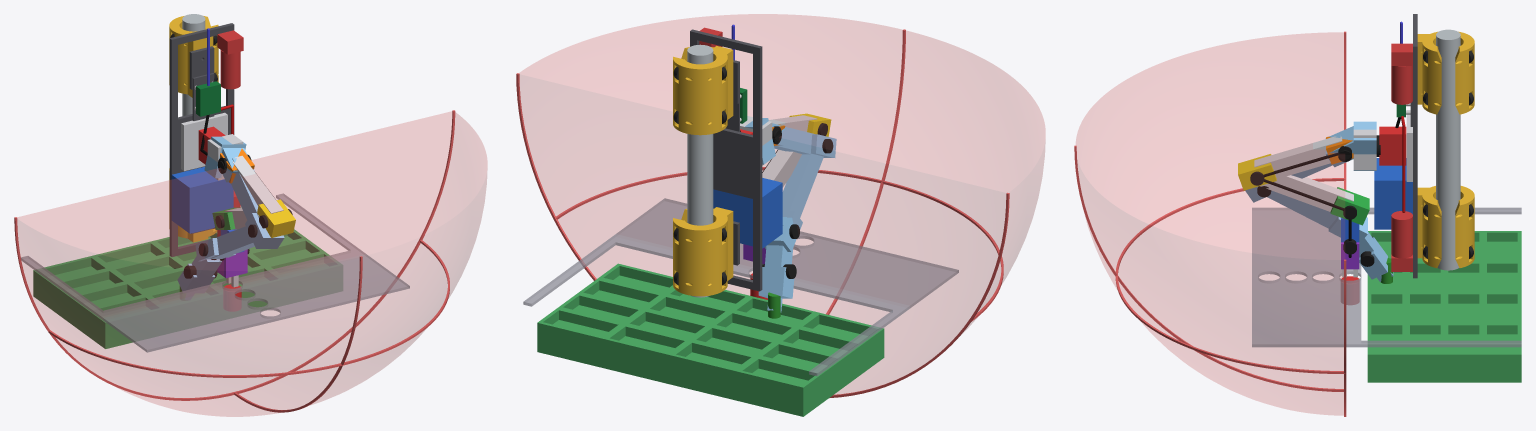
Rendered from cart-arm-v1.glb.
The picture shows the model from 3 angles, left to right: view 1: azimuth 30°, elevation 25°; view 2: azimuth 150°, elevation 25°; view 3: azimuth 270°, elevation 25°; orthographic projection. The views are drawn at different scales.
Visible parts, largest first — view 1: reach_envelope, seedling_tray, store_lid_patch, base_plate, battery, reach_ring_across, reach_ring_on_lid, hand_A_sleeve, drive_motors, arm_pick_D1_base_plate, arm_pick_D1_upper_arm, reach_ring_towards_store (+10 smaller); view 2: reach_envelope, seedling_tray, store_lid_patch, base_plate, hand_B_sleeve, hand_A_sleeve, track_pipe, battery, reach_ring_across, reach_ring_on_lid, ghost_arm_cell_A2_forearm, reach_ring_towards_store (+5 smaller); view 3: reach_envelope, seedling_tray, store_lid_patch, track_pipe, hand_A_sleeve, hand_B_sleeve, drive_motors, battery, reach_ring_on_lid, arm_pick_D1_upper_arm, arm_pick_D1_forearm, reach_ring_towards_store (+12 smaller).
Part boxes in pixels (x1,y1,x2,y2): reach_envelope: (17, 111, 487, 416); seedling_tray: (33, 229, 342, 348); store_lid_patch: (21, 193, 409, 352); base_plate: (169, 23, 234, 256); battery: (171, 166, 233, 233); reach_ring_across: (14, 110, 455, 400); reach_ring_on_lid: (48, 240, 449, 377); hand_A_sleeve: (169, 16, 218, 97); drive_motors: (217, 30, 243, 236); arm_pick_D1_base_plate: (181, 112, 227, 171); arm_pick_D1_upper_arm: (232, 155, 283, 213); reach_ring_towards_store: (234, 256, 362, 412); reach_envelope: (519, 14, 1045, 394); seedling_tray: (537, 263, 884, 416); store_lid_patch: (523, 198, 958, 376); base_plate: (690, 29, 762, 291); hand_B_sleeve: (673, 207, 733, 296); hand_A_sleeve: (673, 46, 733, 135); track_pipe: (687, 44, 713, 297); battery: (713, 178, 782, 248); reach_ring_across: (516, 73, 1009, 398); reach_ring_on_lid: (556, 167, 1003, 321); ghost_arm_cell_A2_forearm: (782, 154, 823, 225); reach_ring_towards_store: (826, 29, 905, 314); reach_envelope: (1076, 32, 1344, 415); seedling_tray: (1367, 231, 1521, 382); store_lid_patch: (1252, 207, 1521, 347); track_pipe: (1436, 29, 1460, 270); hand_A_sleeve: (1417, 31, 1474, 114); hand_B_sleeve: (1417, 186, 1474, 268); drive_motors: (1391, 43, 1412, 271); battery: (1374, 158, 1412, 229); reach_ring_on_lid: (1115, 178, 1345, 373); arm_pick_D1_upper_arm: (1254, 136, 1342, 178); arm_pick_D1_forearm: (1260, 174, 1353, 211); reach_ring_towards_store: (1074, 145, 1343, 391).
Bounding box in the file's own units: 703 × 530 × 581.
